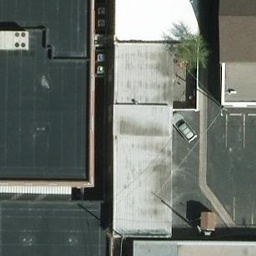car: (170, 113, 196, 144)
